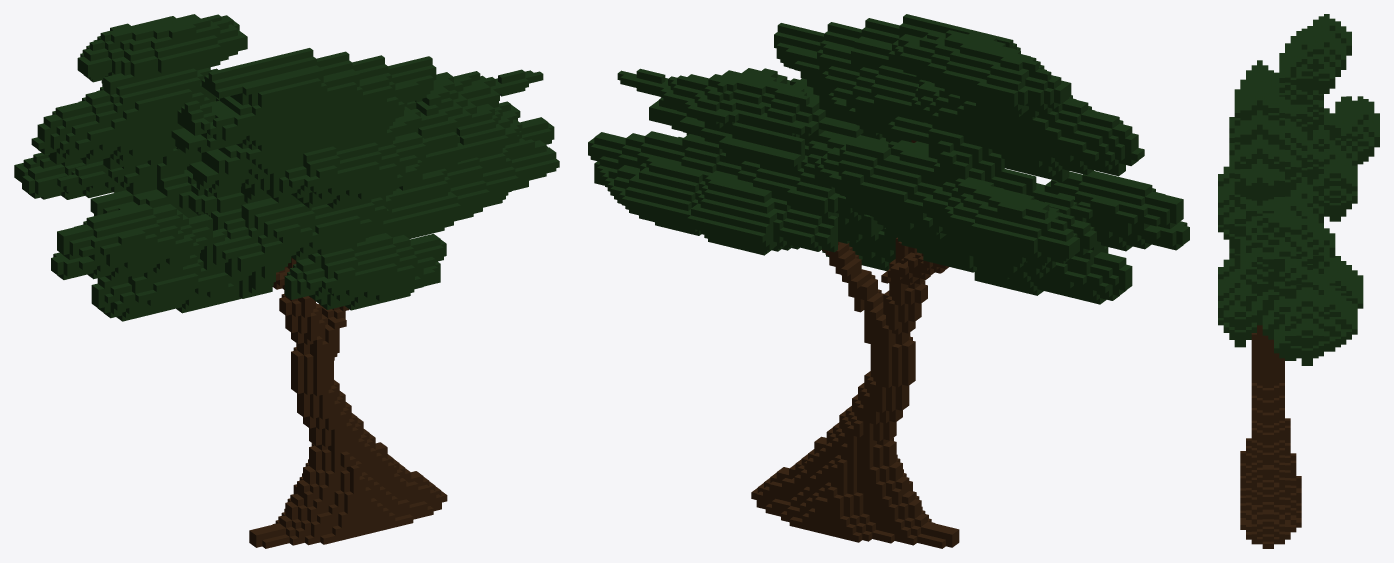
File: Korean_tree_03.FBX
3 views of the same model, side by side, from view 1: azimuth 30°, elevation 25°; view 2: azimuth 150°, elevation 25°; view 3: azimuth 270°, elevation 25° (orthographic). The views are drawn at different scales.
Visible parts, largest first — view 1: Voxel_Korean_traditional village-15; view 2: Voxel_Korean_traditional village-15; view 3: Voxel_Korean_traditional village-15.
Part boxes in pixels (left/top/right/bottom): Voxel_Korean_traditional village-15: left=14, top=14, right=559, bottom=548; Voxel_Korean_traditional village-15: left=588, top=14, right=1189, bottom=548; Voxel_Korean_traditional village-15: left=1218, top=14, right=1379, bottom=548.
Size of the model in its own units: 88.98 by 81.98 by 28.99.
Materials: 1 (1 with a texture image).
